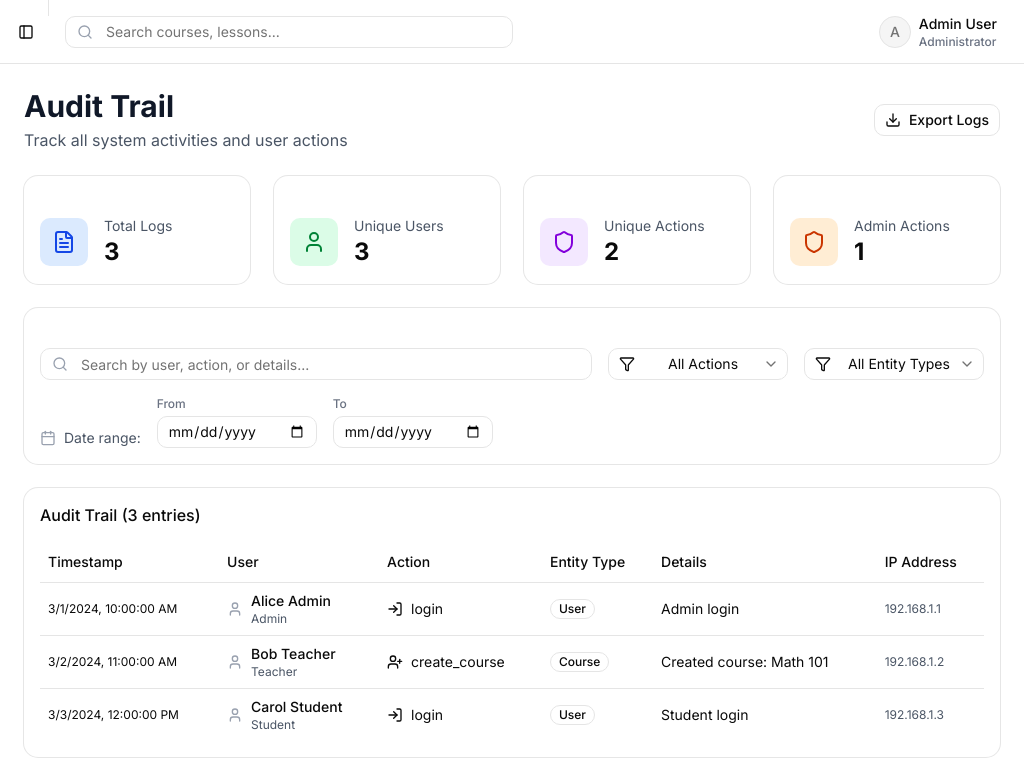
Test: Admin System Page - Audit Log Table (6.6) › client-side search filters by action (P1.5.2)
Check: the text "Alice Admin" is shown, box [251,590,331,610]
Type "create_course" into the search field named "search audit logs".
click(316, 364); type("create_course")  # box [40,348,592,380]
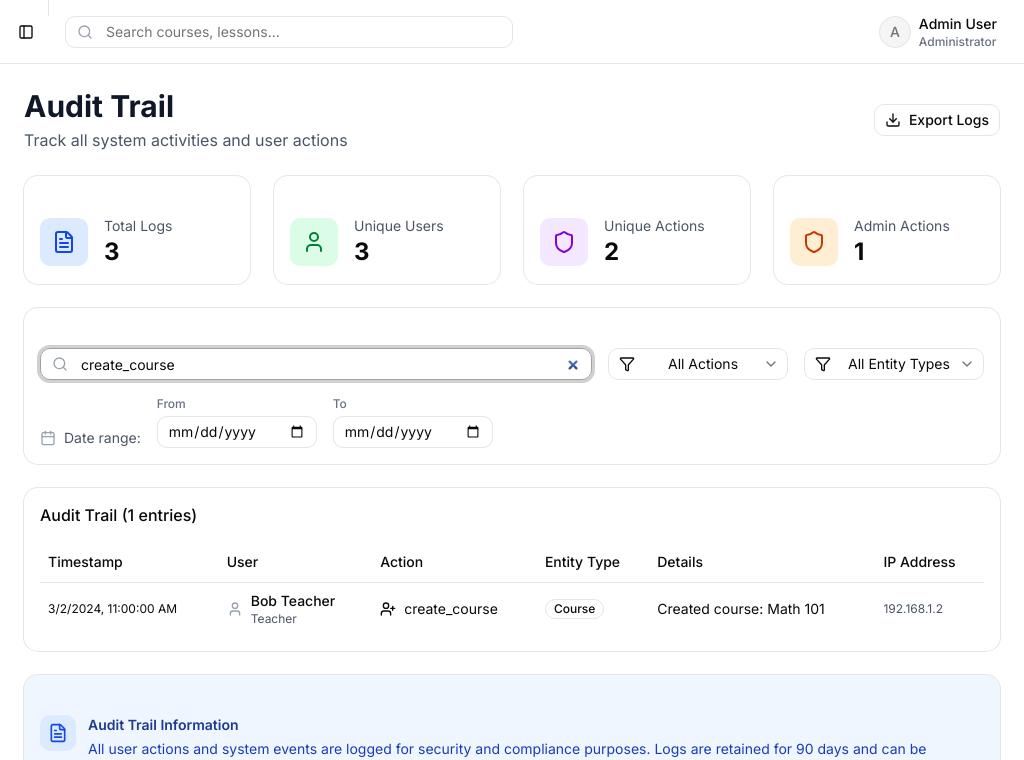
Check: the text "Bob Teacher" is shown, box [251,590,335,610]
Check: the text "Alice Admin" is gone
